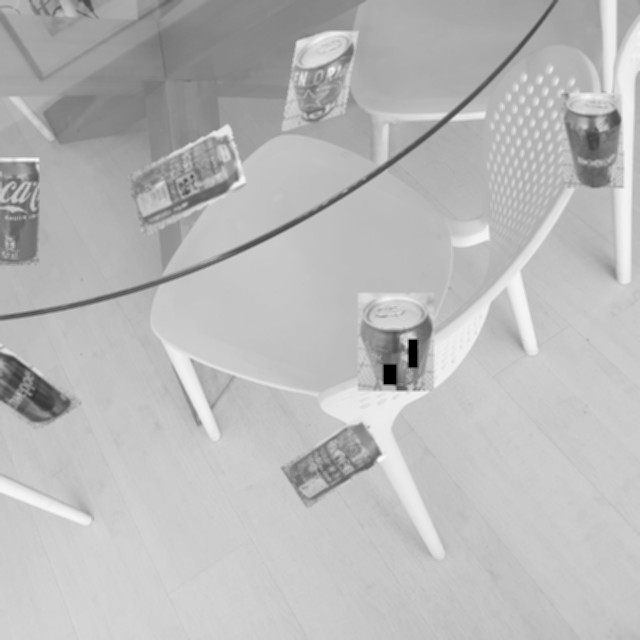coca cola: (281, 416, 387, 508), (0, 158, 39, 265)
heineken: (282, 31, 360, 131), (358, 293, 434, 391)
schweppes: (0, 322, 82, 452), (561, 93, 624, 188)
sprite: (113, 118, 259, 244)
